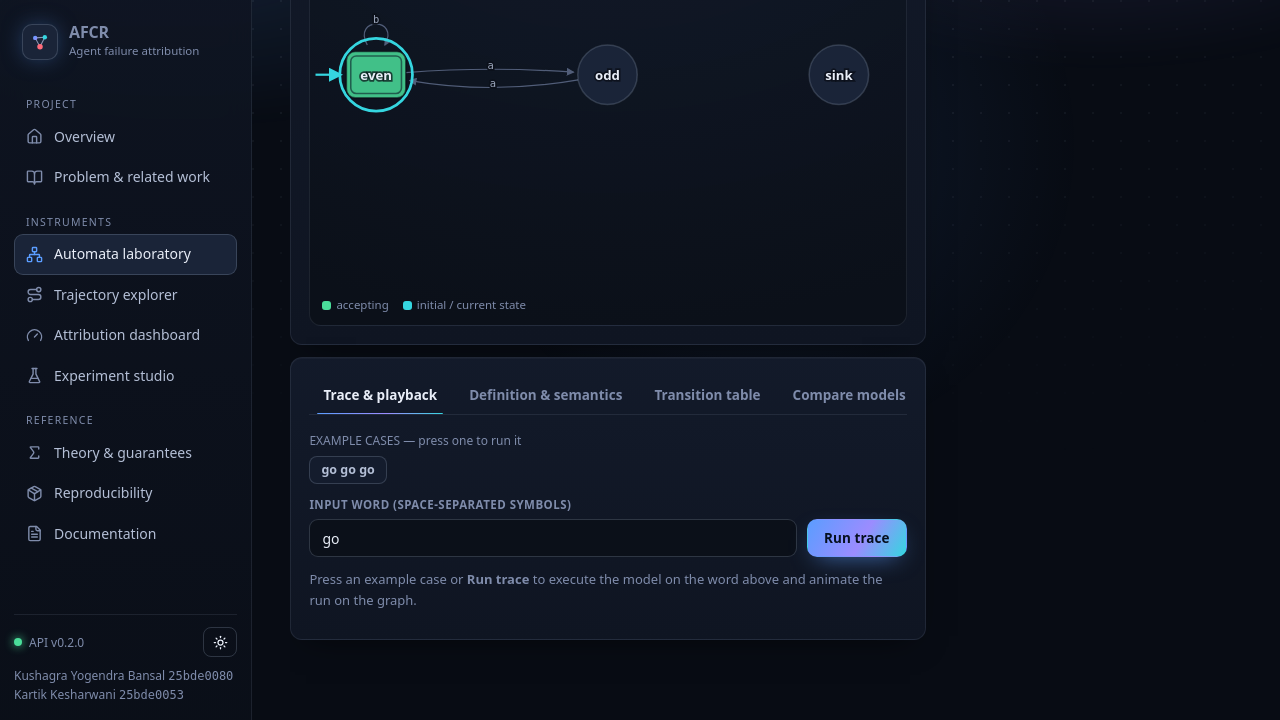
Test: automata laboratory results are specific to the machine › probabilistic automaton: probability, no accepted/rejected verdict; an example case runs with its word
(page scrolled)
Click the button with test id "example-case" at (348, 470), box [309,456,387,484]
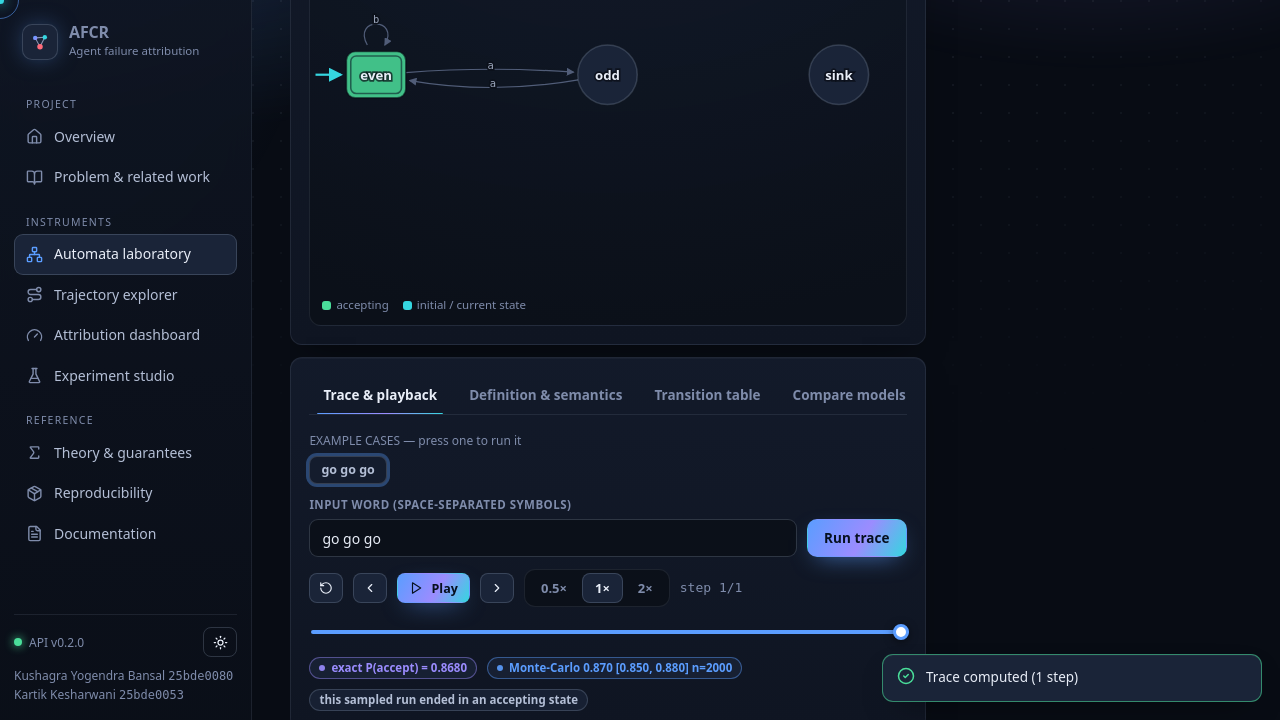
expect the text "exact P(accept) = 0.8680" is shown: met, box [309,657,477,679]
